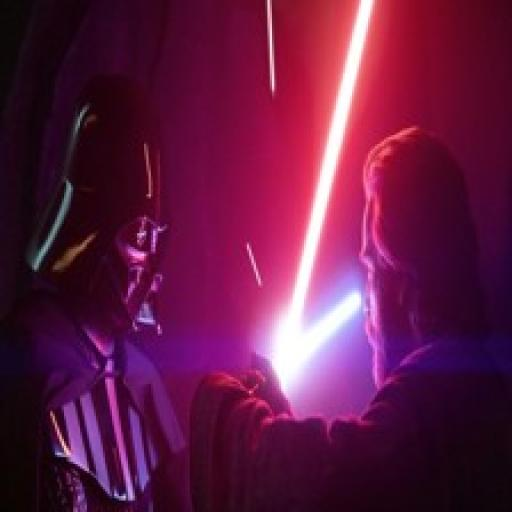human: (203, 125, 511, 512)
lightsaber: (228, 285, 363, 425)
sith saber: (227, 0, 377, 439)
